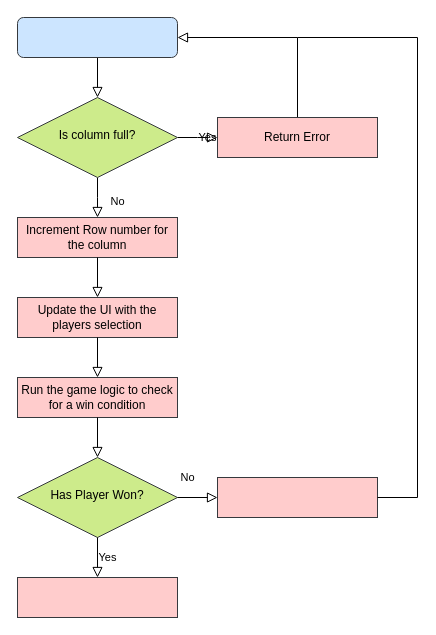
Some shapes in this 436 by 635 pixel diagram are drawn without their labels. Here are the shapes that lost their labels. From the top down, the centre of each, then its label:
point 97,37: Wait for player to select column
point 297,497: Swap the current player
point 97,597: Update UI with winning player
